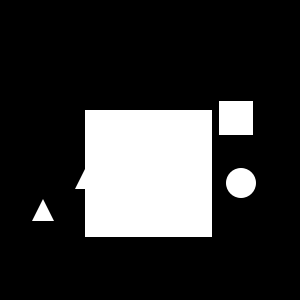circle: (85, 110, 212, 237), (219, 101, 253, 135)
rectangle: (226, 168, 256, 198)
triangle: (75, 119, 145, 189), (32, 199, 54, 221)
